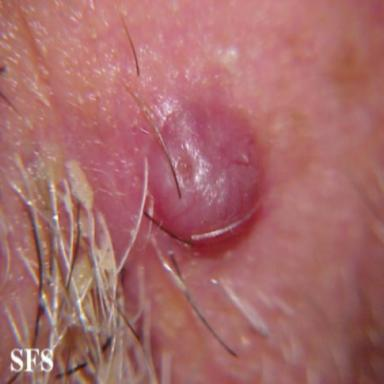basal-cell-carcinoma: (145, 103, 262, 246)
